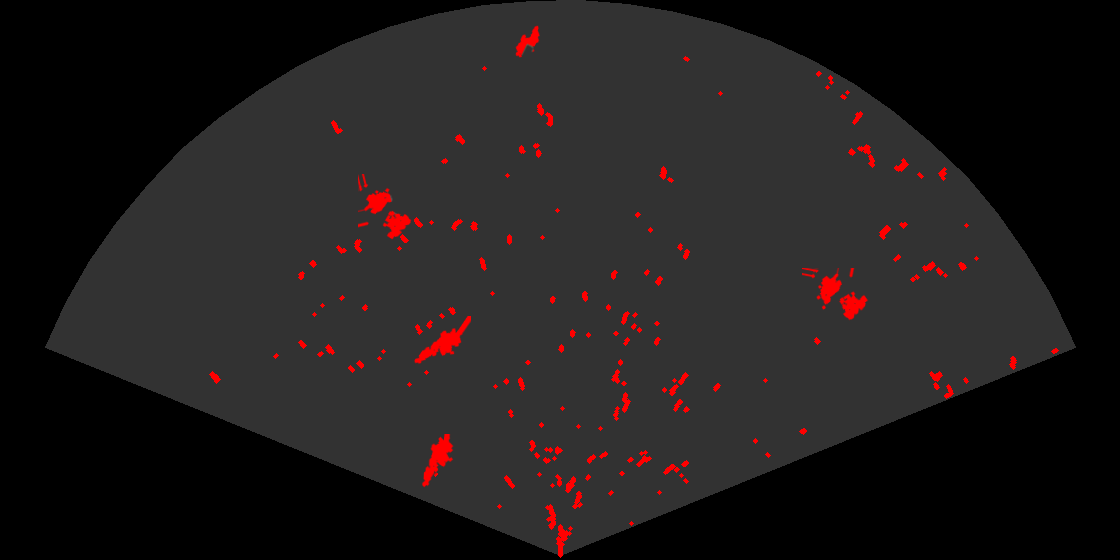AUV: (514, 24, 541, 59)
cage: (358, 174, 413, 241), (802, 268, 870, 322)
frogman: (413, 316, 471, 366), (421, 434, 455, 489)
